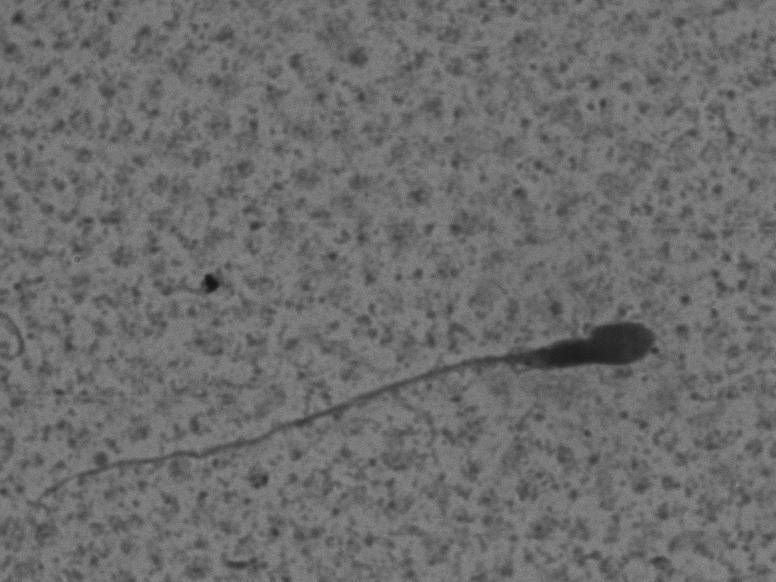Abnormal: (12, 311, 697, 516)
